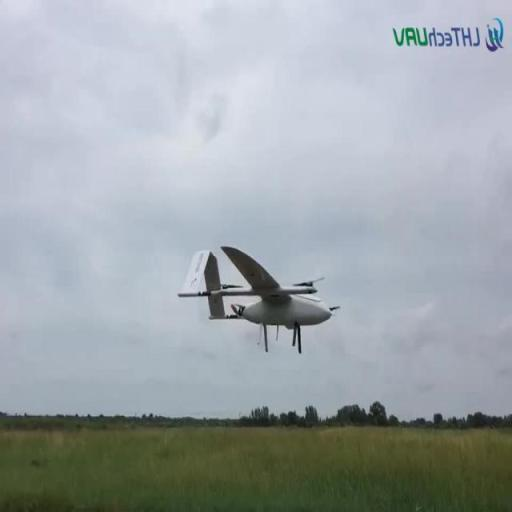uav: (172, 242, 346, 360)
